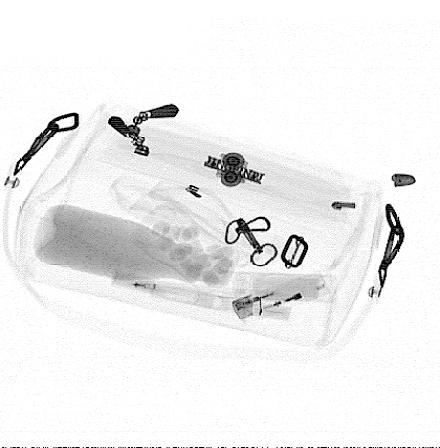Lighter: (230, 269, 332, 321)
